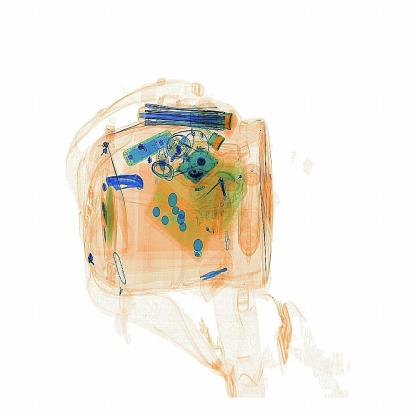knife: (101, 168, 154, 200)
